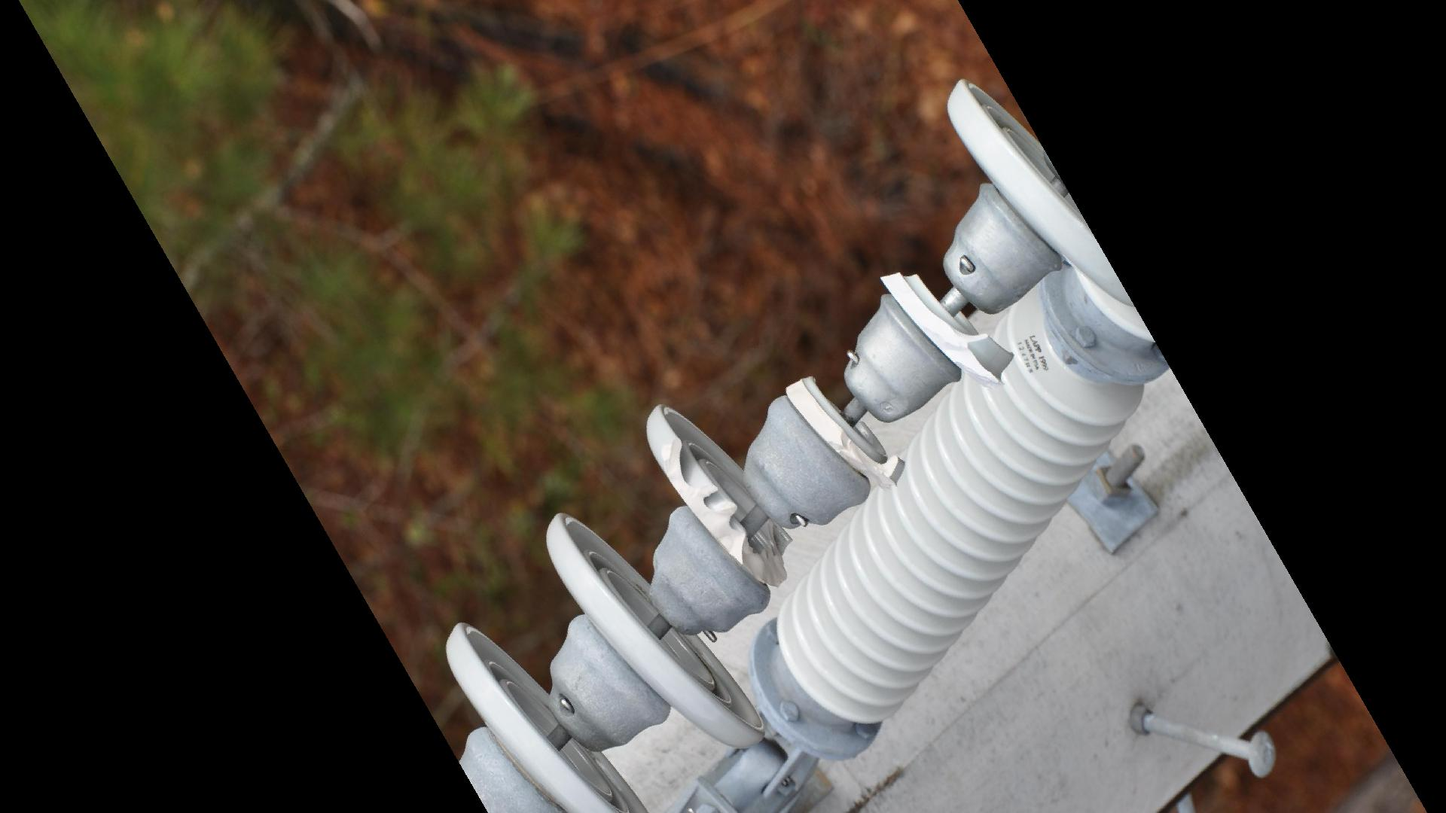insulator: (421, 75, 1146, 813), (771, 292, 1148, 738)
insulator_breakage: (651, 425, 798, 591), (864, 263, 1020, 394), (772, 362, 914, 493)
